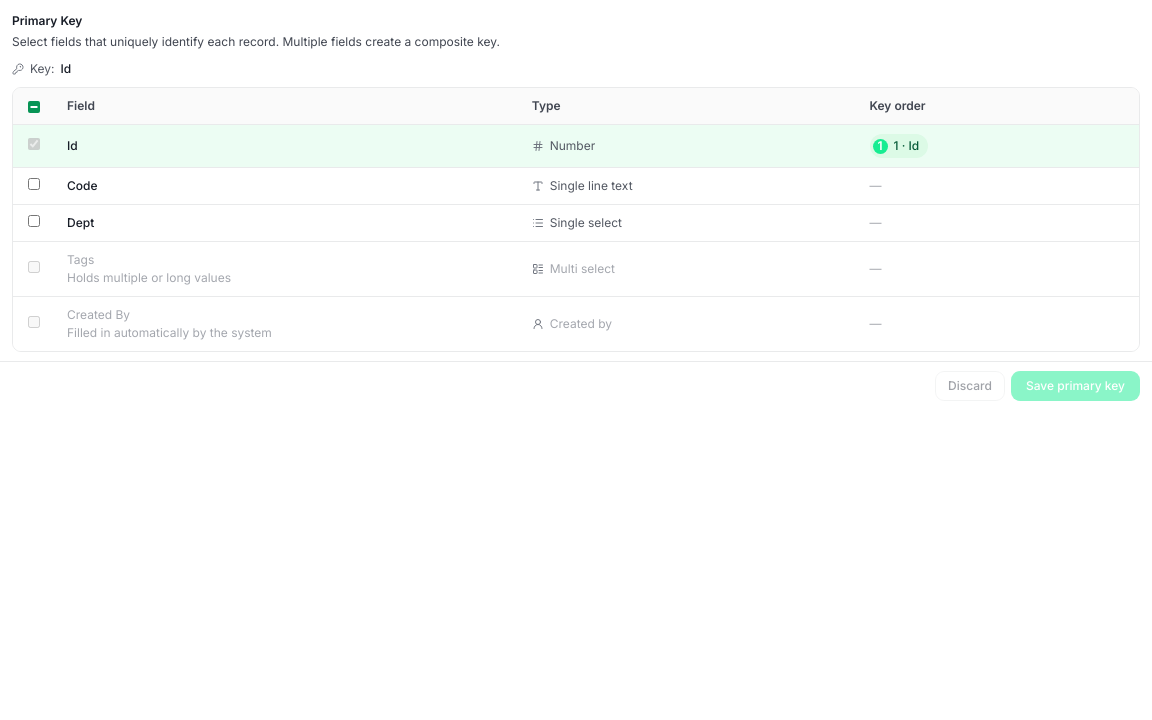
Test: PrimaryKeyPanel › shows exactly which records block the new key
Click the checkbox named "Use Code in the primary key": coordinates (34, 184) [28,178,40,190]
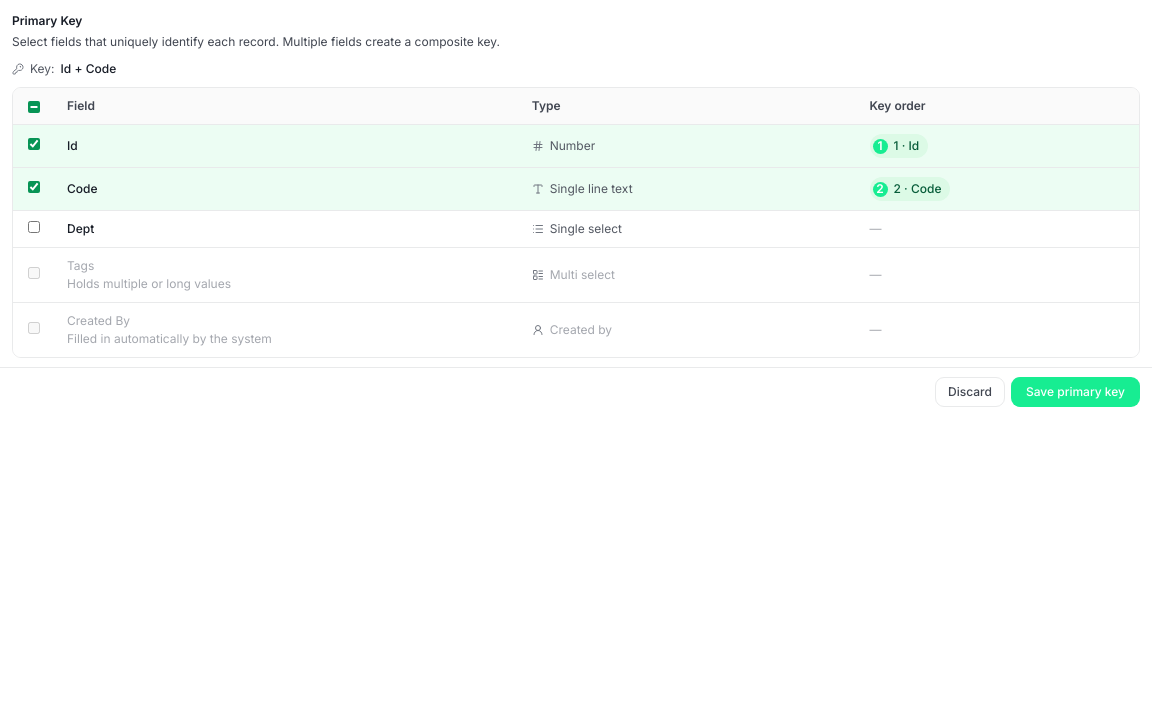
Click the checkbox named "Use Dept in the primary key": coordinates (34, 227) [28,221,40,233]
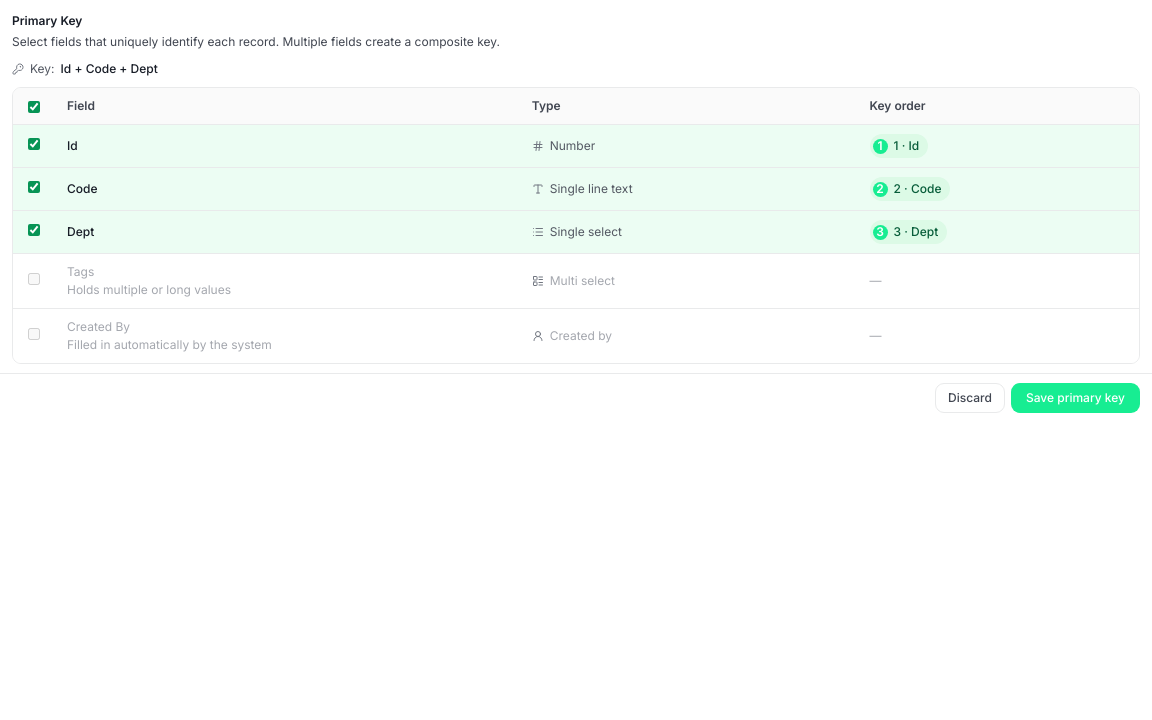
Click the button "Save primary key": coordinates (1076, 398) [1011,383,1140,413]
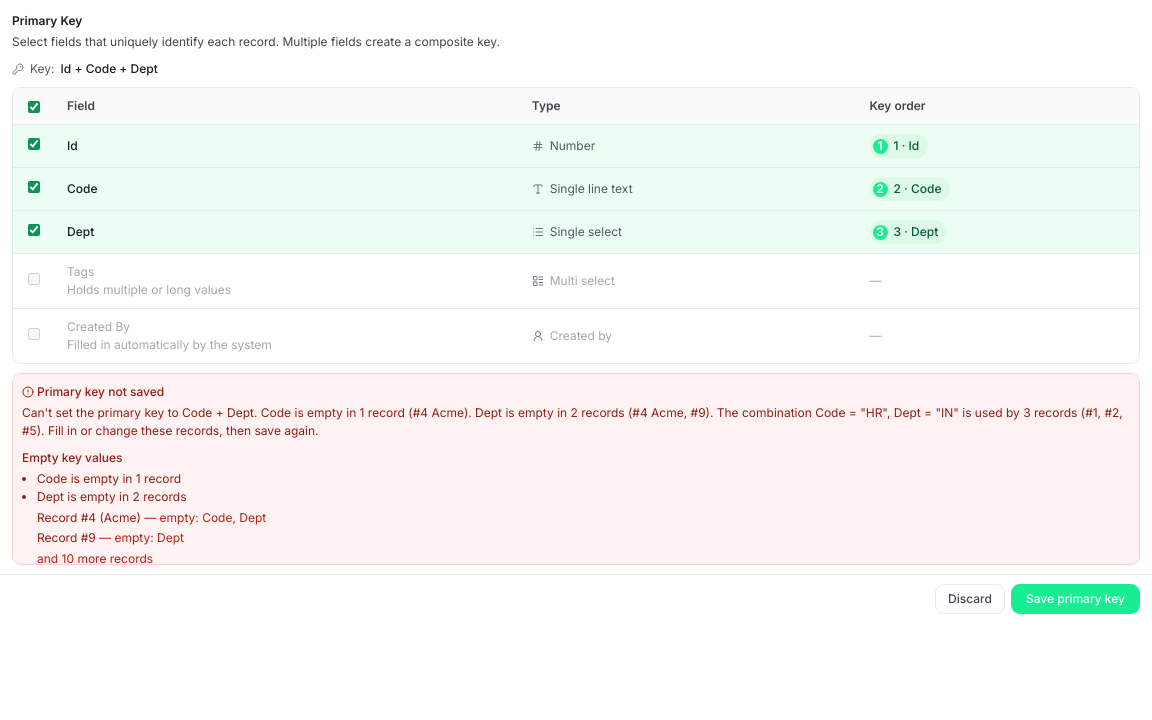
Expected: the message with test id "primary-key-violation" shows "Code is empty in 1 record", [22,405,1123,438]
Expected: the message with test id "primary-key-violation" shows "Dept is empty in 2 records", [22,405,1123,438]
Expected: the message with test id "primary-key-violation" shows "and 10 more records", [12,373,1140,565]
